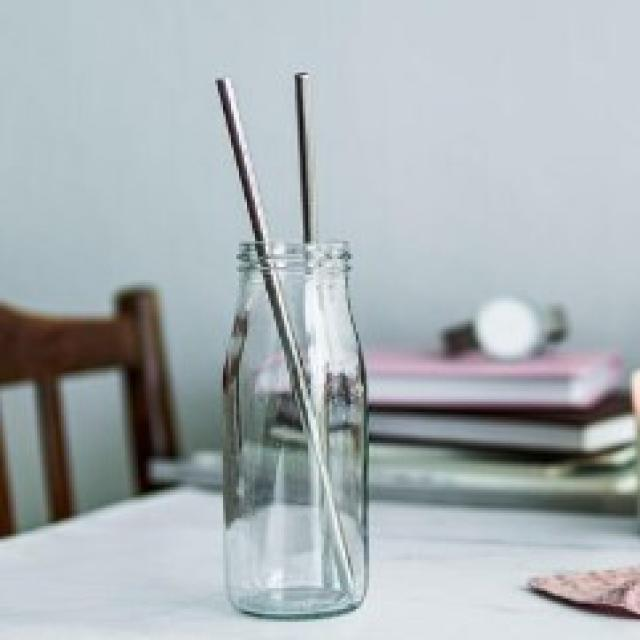electronic: (222, 243, 373, 624)
